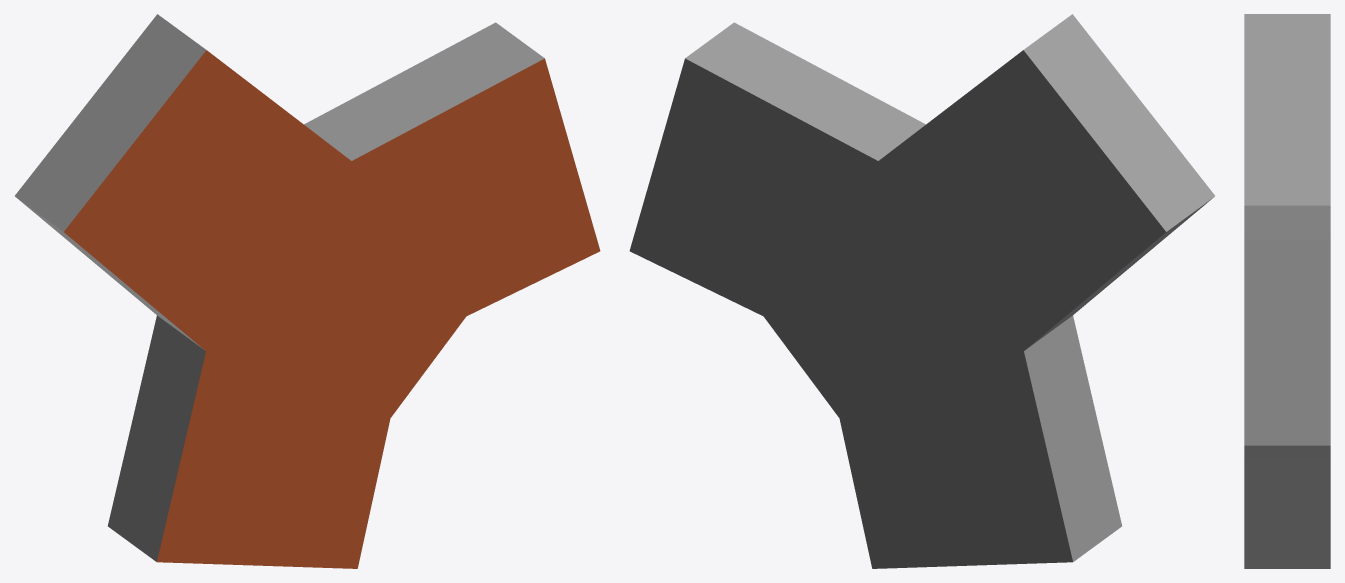
The model's file is construction_5583_assumed_A_Casa_h6m.obj.
3 views of the same model, side by side, from view 1: azimuth 30°, elevation 25°; view 2: azimuth 150°, elevation 25°; view 3: azimuth 270°, elevation 25° (orthographic). The views are drawn at different scales.
Visible parts, largest first — view 1: construction_5583_assumed_A_Casa; view 2: construction_5583_assumed_A_Casa; view 3: construction_5583_assumed_A_Casa.
Part boxes in pixels (x1=…): construction_5583_assumed_A_Casa: x1=15, y1=14, x2=600, y2=568; construction_5583_assumed_A_Casa: x1=629, y1=14, x2=1214, y2=568; construction_5583_assumed_A_Casa: x1=1244, y1=14, x2=1330, y2=568.
Bounding box in the file's own units: 37.84 × 37.44 × 6.
